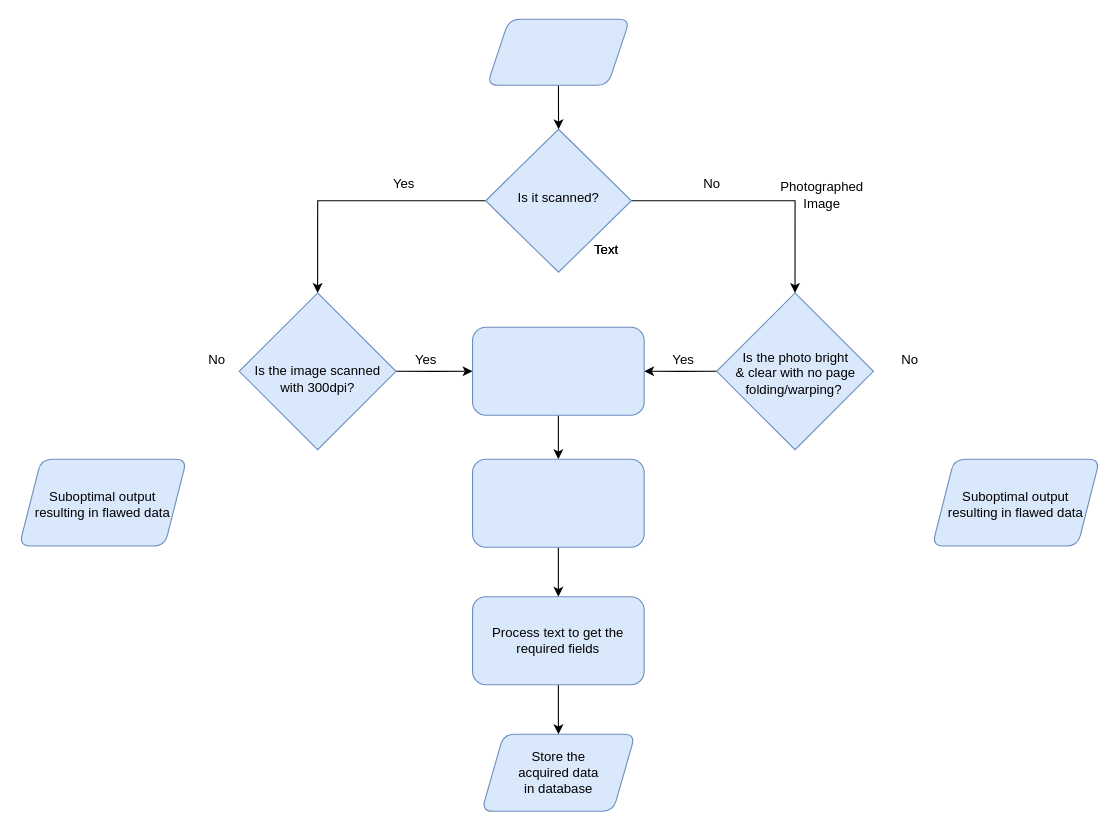
Image size: 1120x831. Some labels were removed from this diagram. Each missing label, with the box of its shape:
Extracting text from preprocessed image: (471, 458, 644, 547)
Input Image: (486, 18, 630, 85)
Preprocessing image: (471, 326, 644, 415)
